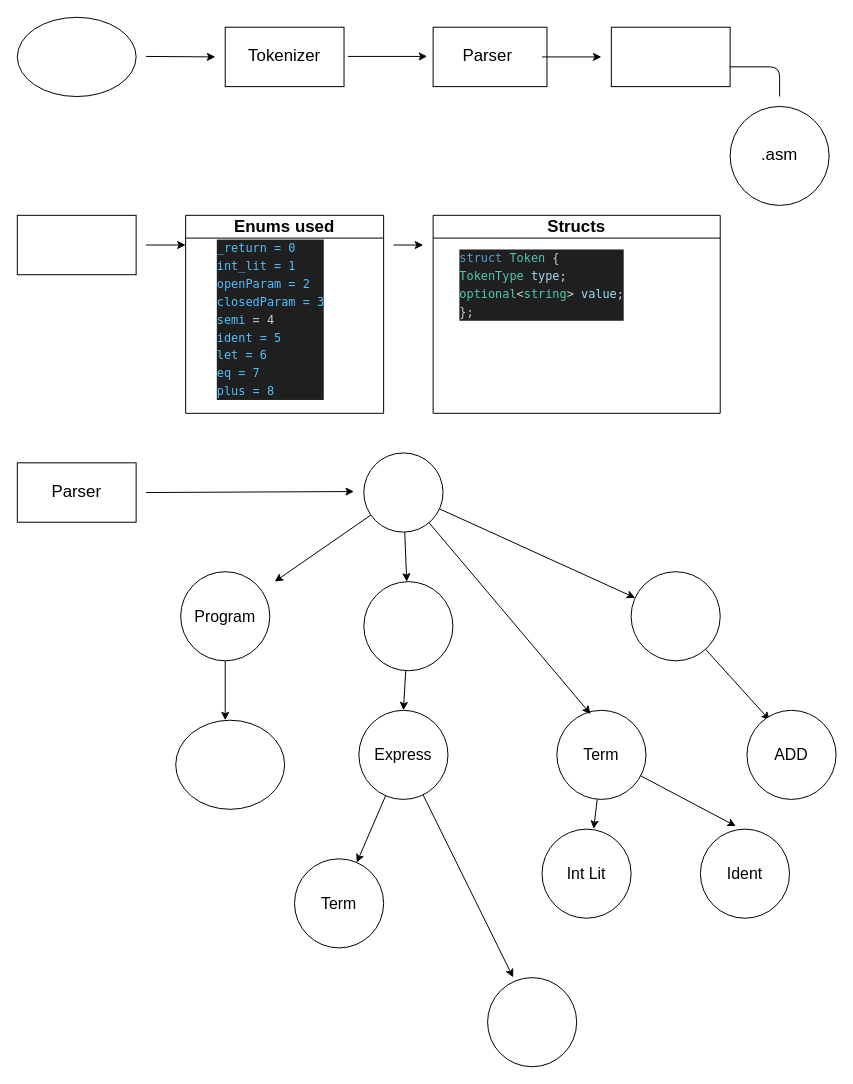
This 853x1084 diagram has some shape labels left out. Here are the shapes that lost their labels. From the top down, the centre of each, then its label:
point (76, 56): Source Code (.babu)
point (670, 56): code Gen
point (76, 244): Tokenize
point (403, 492): Node
point (408, 626): Statement
point (675, 616): Binary Exp
point (230, 764): [statement]*
